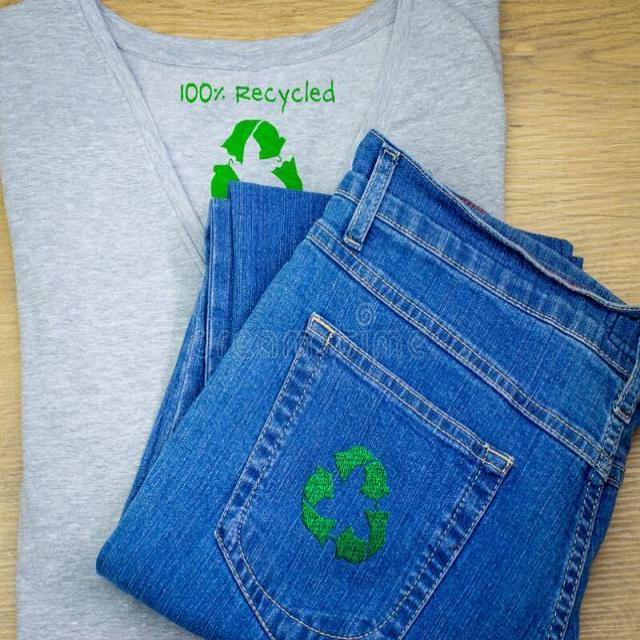clothes: (14, 1, 628, 640)
